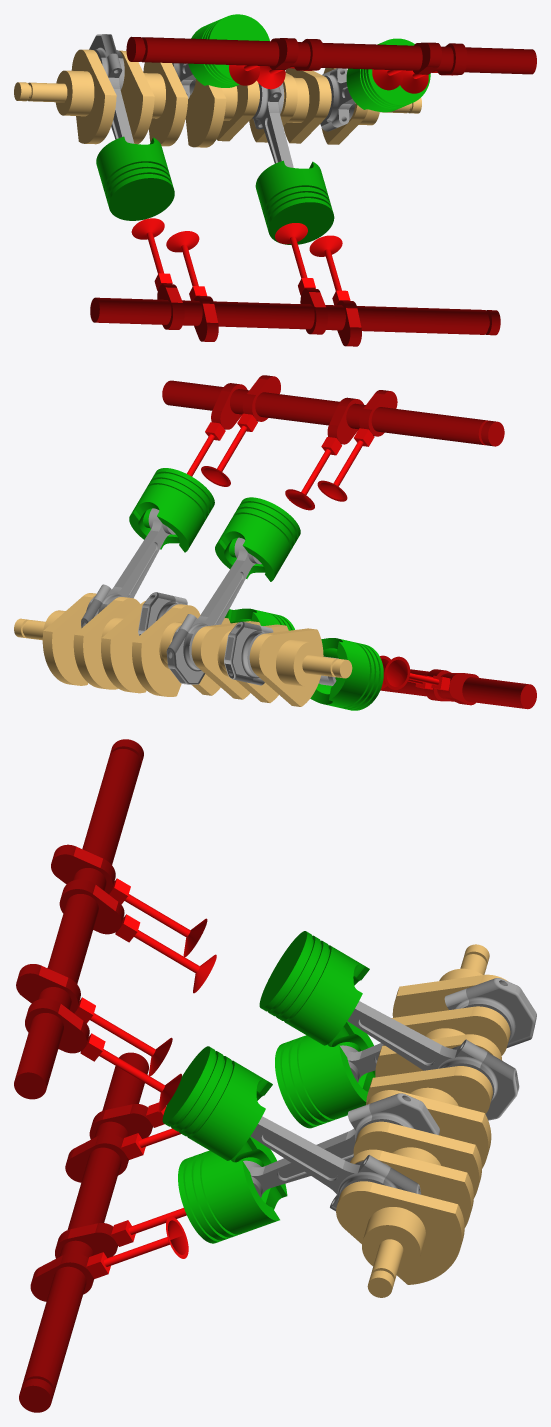
The model's file is Moteur_V.glb.
3 views of the same model, one above another, from view 1: azimuth 30°, elevation 25°; view 2: azimuth 150°, elevation 25°; view 3: azimuth 270°, elevation 25° (orthographic). The views are drawn at different scales.
Visible parts, largest first — view 1: Shape (×41); view 2: Shape (×40); view 3: Shape (×45).
Part boxes in pixels (<box>): Shape (×41): <box>30,14,536,334</box>; Shape (×40): <box>42,376,528,708</box>; Shape (×45): <box>15,749,532,1390</box>.
Bounding box in the file's own units: 0.7779 × 0.6178 × 0.6319.
